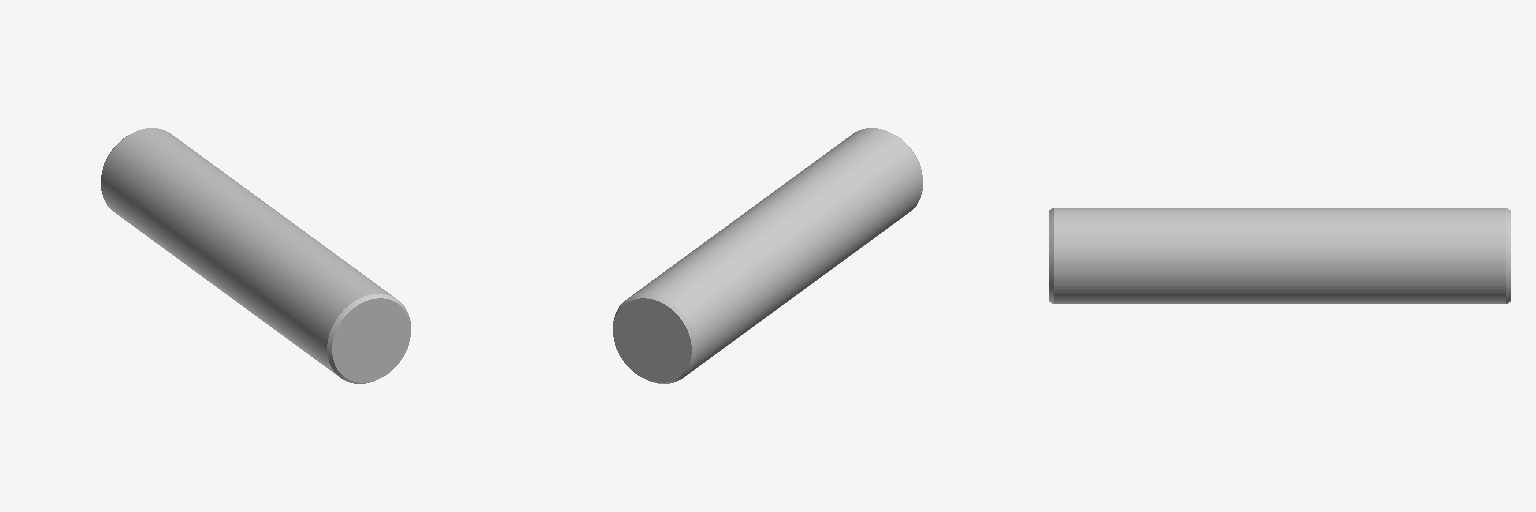
Rendered from factory_round_peg_16mm_loose.obj.
3 renders of one model, left to right at view 1: azimuth 30°, elevation 25°; view 2: azimuth 150°, elevation 25°; view 3: azimuth 270°, elevation 25°, orthographic.
Parts seen in each view (by area): view 1: mesh0; view 2: mesh0; view 3: mesh0.
Boxes of the visible parts, x1,y1,x2,y2 form: mesh0: [101, 128, 410, 383]; mesh0: [613, 128, 922, 383]; mesh0: [1049, 208, 1510, 303].
Size of the model in its own units: 0.016 by 0.016 by 0.0762.